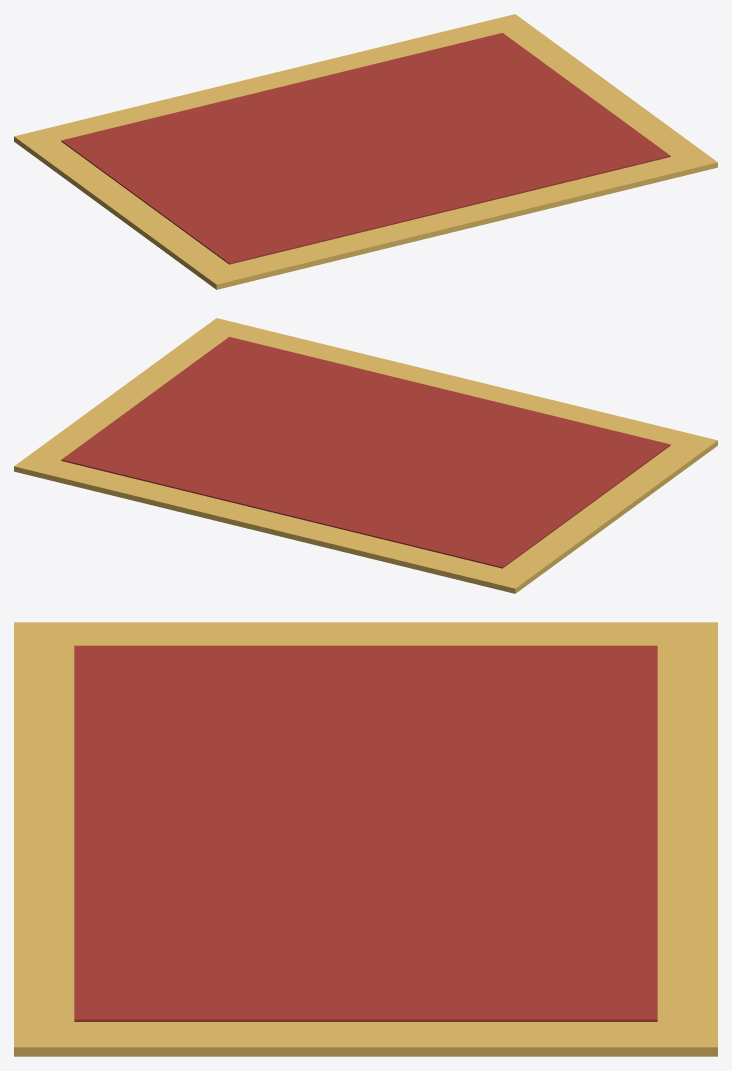
The model's file is rug.glb.
The picture shows the model from 3 angles, top to bottom: view 1: azimuth 30°, elevation 25°; view 2: azimuth 150°, elevation 25°; view 3: azimuth 270°, elevation 25°; orthographic projection. The views are drawn at different scales.
Visible parts, largest first — view 1: Middle, Edge; view 2: Middle, Edge; view 3: Middle, Edge.
Part boxes in pixels (x1=…): Middle: x1=61, y1=33, x2=670, y2=264; Edge: x1=14, y1=14, x2=717, y2=289; Middle: x1=61, y1=337, x2=670, y2=568; Edge: x1=14, y1=318, x2=717, y2=593; Middle: x1=74, y1=645, x2=657, y2=1021; Edge: x1=14, y1=622, x2=717, y2=1056.
Size of the model in its own units: 2 by 0.025 by 1.4.
